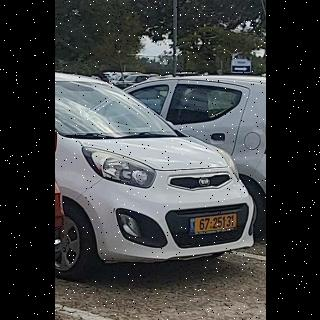LicensePlate: (192, 214, 237, 232)
